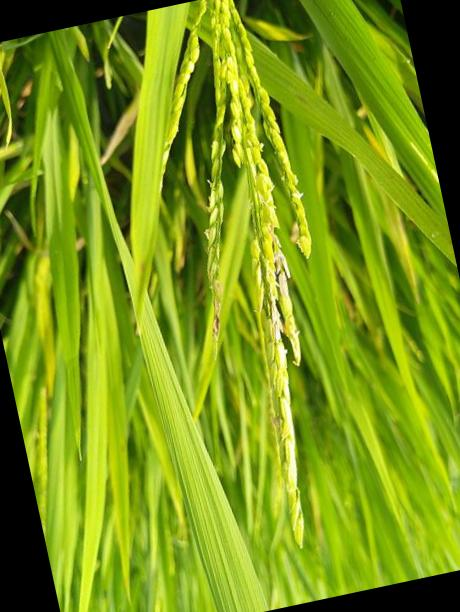Panicle Blight: (245, 234, 300, 493), (208, 278, 224, 340)
